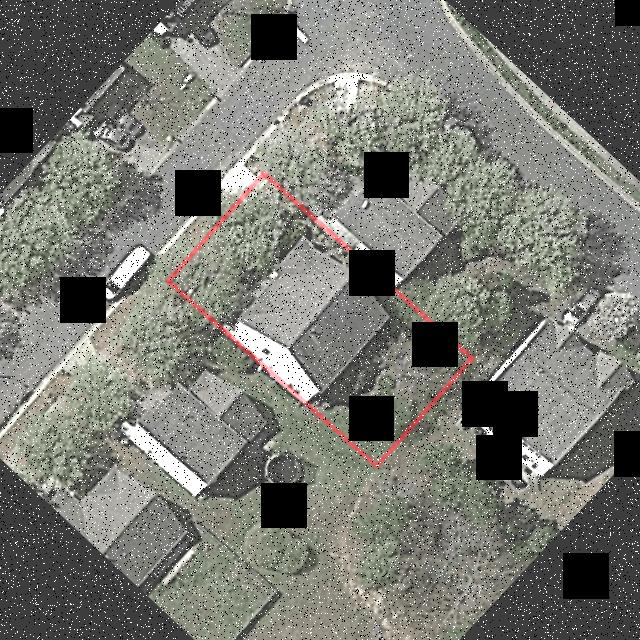Extra Driveway: (218, 160, 256, 194)
Extra Lawn: (156, 189, 237, 278)
House: (228, 231, 395, 403)
